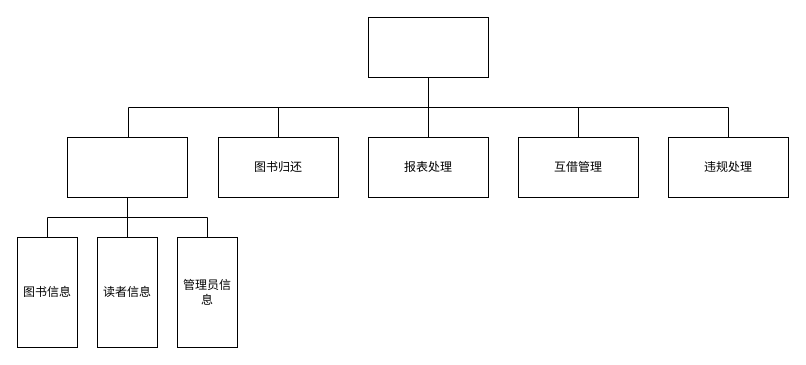
Image size: 806x365. Some labels were removed from this diagram. Here are the shapes that lost their labels. From the top down, the centre of each, then its label:
pixel 428 47: 借阅系统后台
pixel 127 167: 信息管理
